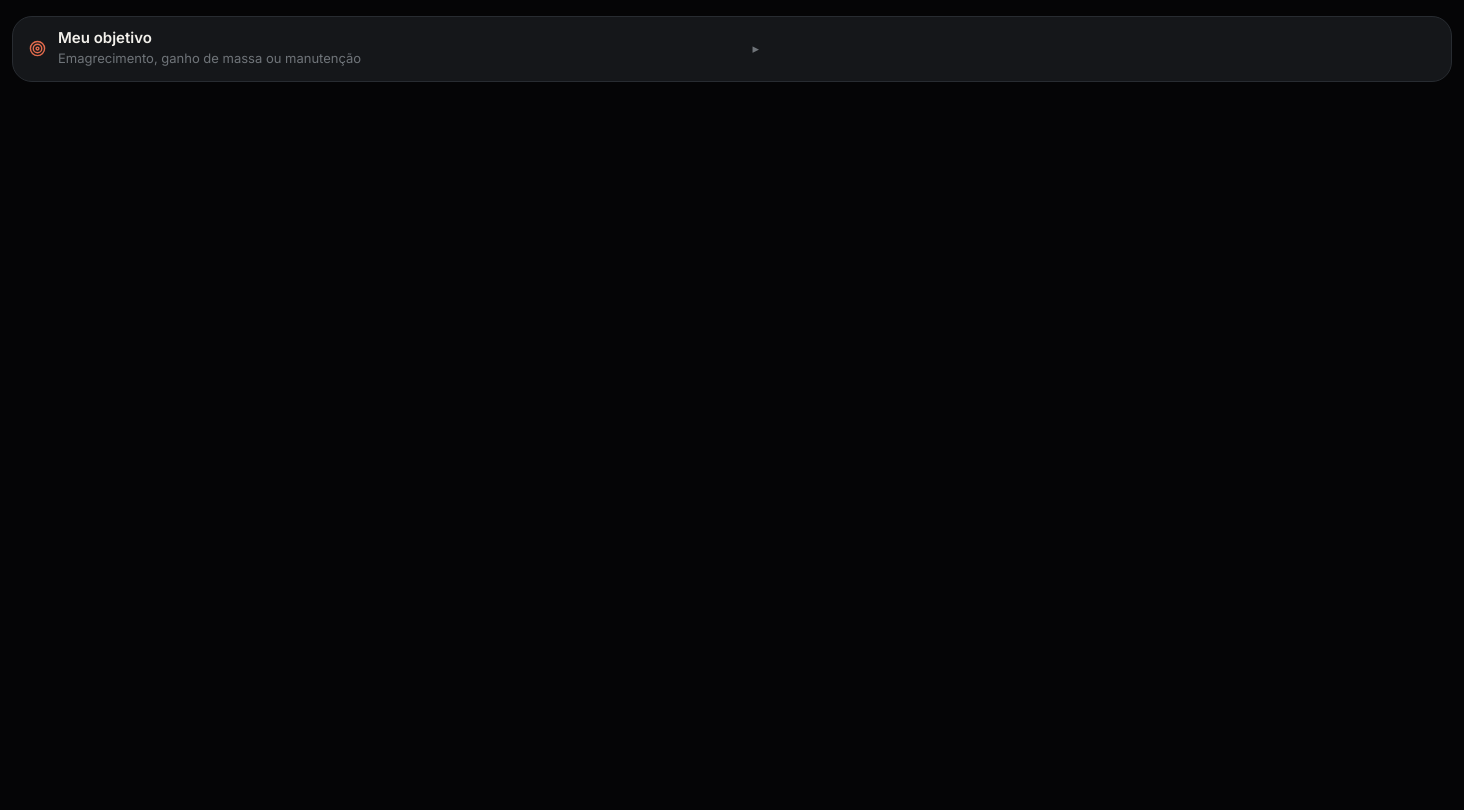
manutencao nao mostra ritmo nenhum
Click the button with test id "abrir-objetivo".
click(105, 38)  # box [13,17,1451,80]
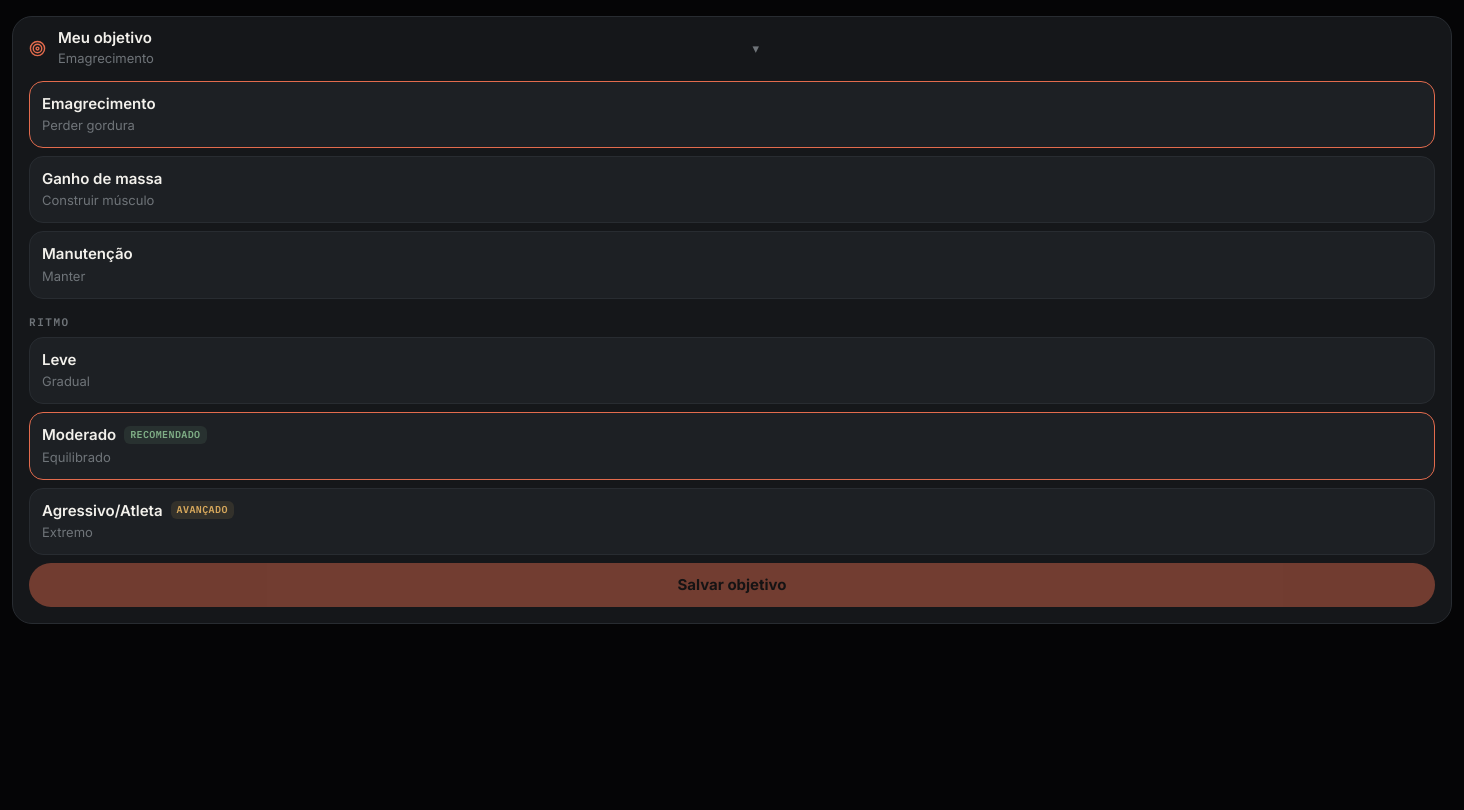
Click the button with test id "objetivo-maintenance".
click(87, 254)  # box [29,231,1435,298]
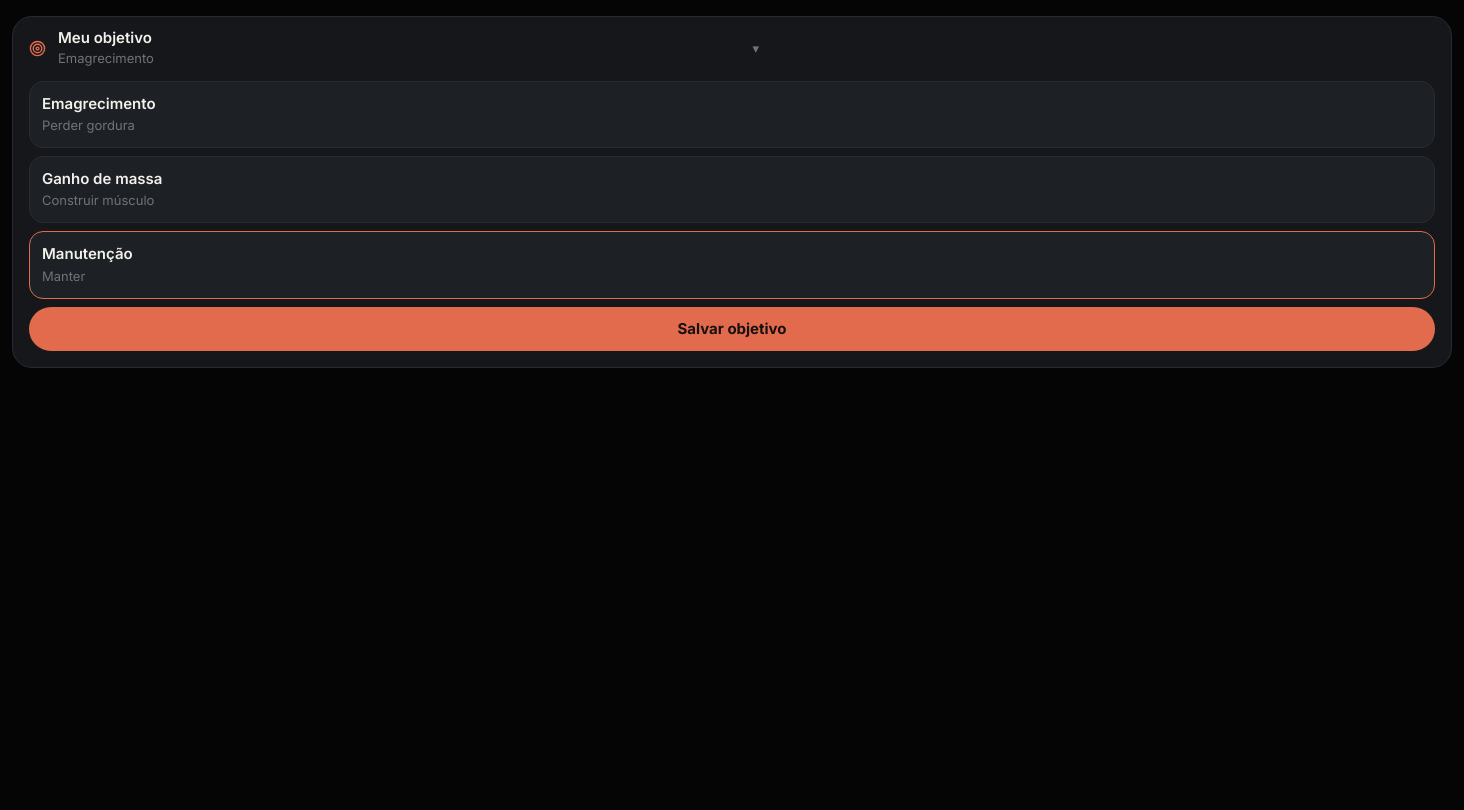
Expected: no buttons with class "objetivo-ritmo" are shown
